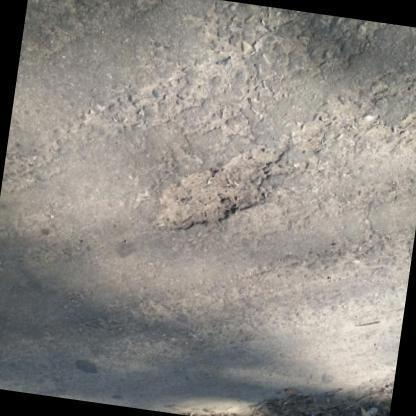pothole: (154, 138, 286, 230), (294, 95, 402, 174)
